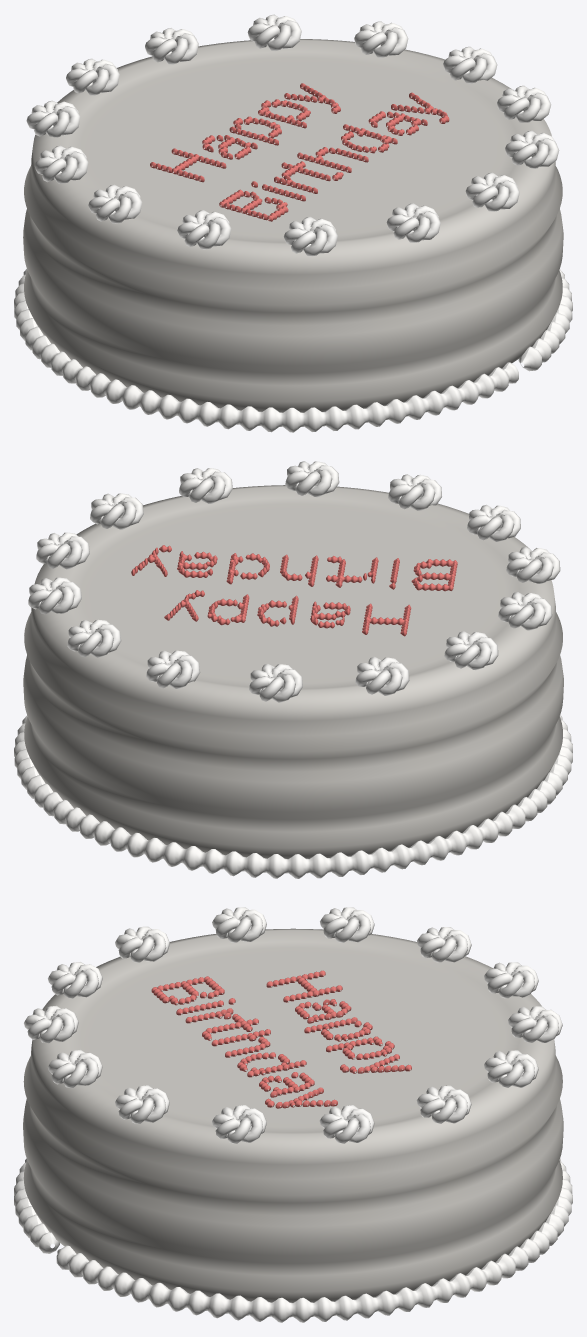
File: cake.glb
3 renders of one model, top to bottom at view 1: azimuth 30°, elevation 25°; view 2: azimuth 150°, elevation 25°; view 3: azimuth 270°, elevation 25°, orthographic.
Size of the model in its own units: 0.2644 by 0.1034 by 0.2643.
